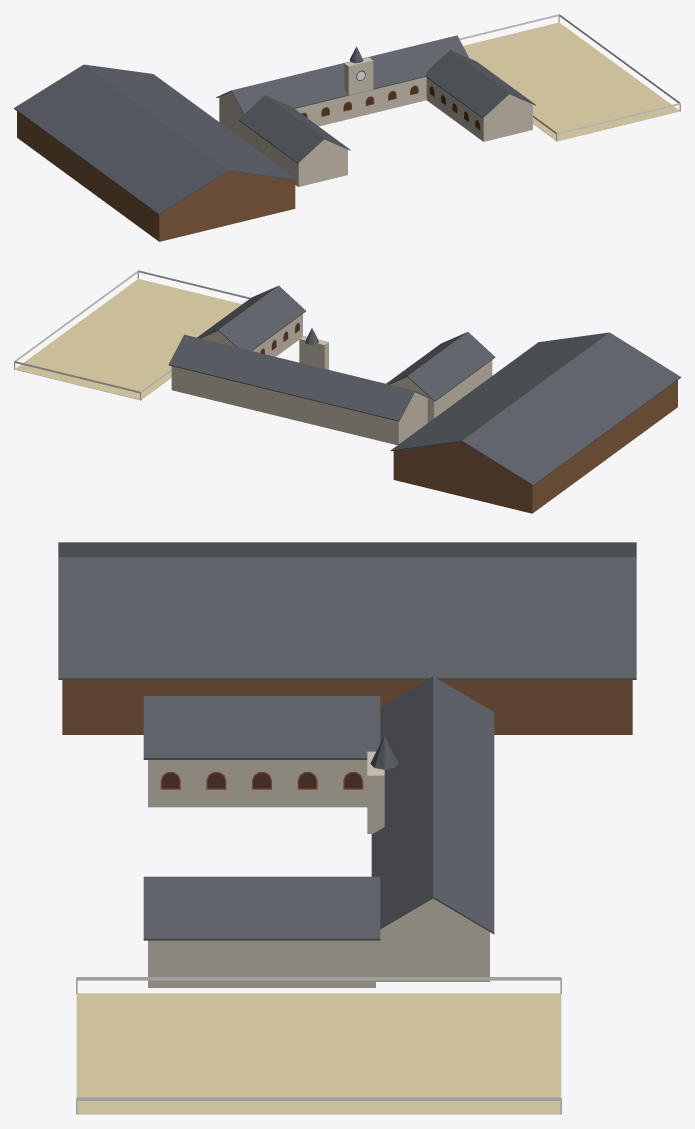
Rendered from haras.glb.
3 views of the same model, one above another, from view 1: azimuth 30°, elevation 25°; view 2: azimuth 150°, elevation 25°; view 3: azimuth 270°, elevation 25° (orthographic). The views are drawn at different scales.
Visible parts, largest first — view 1: haras; view 2: haras; view 3: haras.
Boxes of the visible parts, x1,y1,x2,y2 form: haras: (14, 14, 680, 241); haras: (14, 270, 680, 513); haras: (58, 542, 636, 1114).
Size of the model in its own units: 85.36 by 10.7 by 40.6.
1 material, 1 textured.
